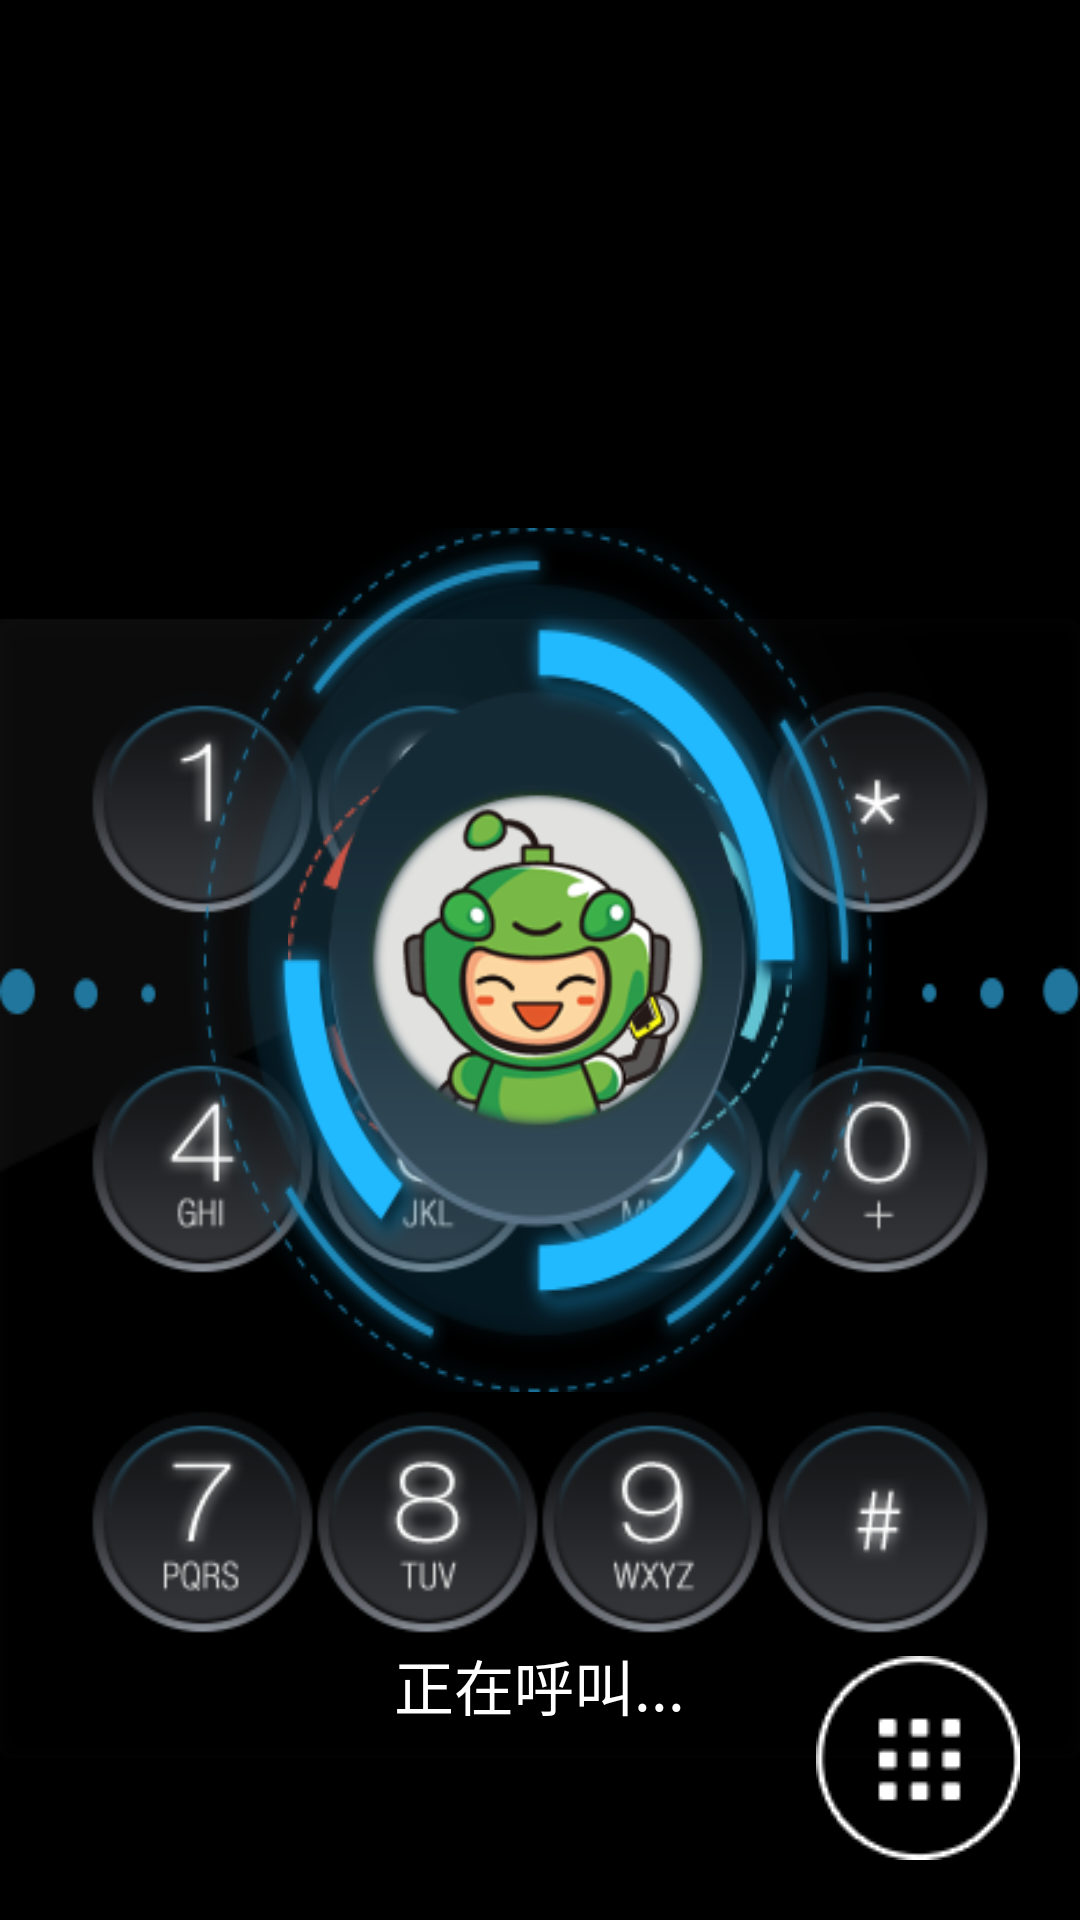

Named icons in this screenshot (1080x1920) and their bounding boxes, box(x1, y1, x2, y2):
call show dial: box(816, 1656, 1020, 1860)
